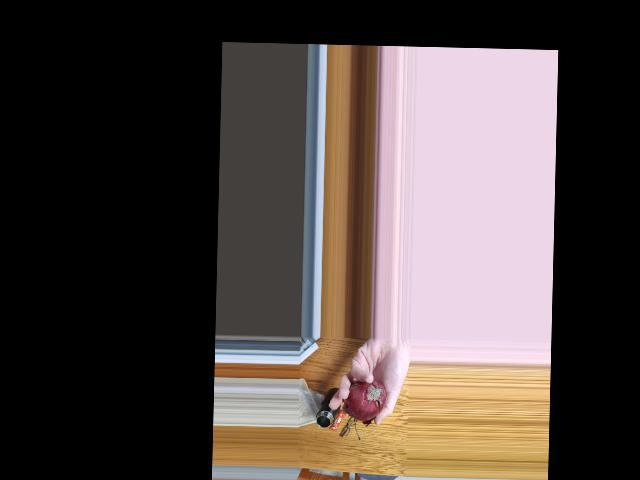onion: (349, 374, 389, 420)
